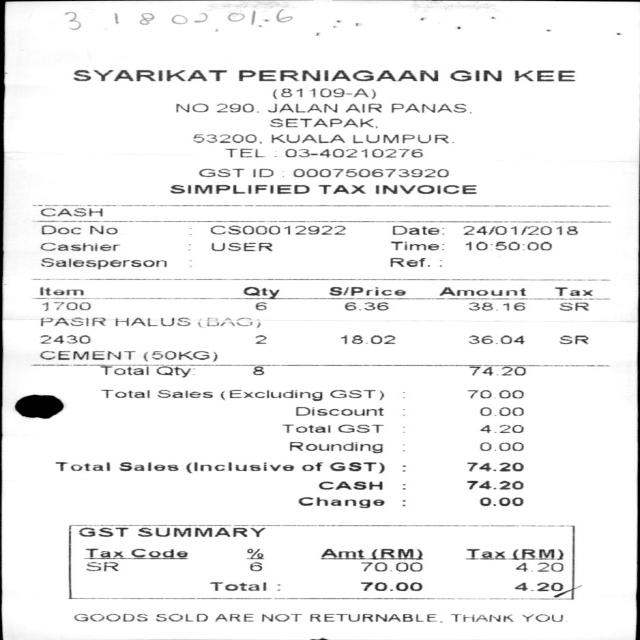text: (238, 70, 438, 81), (73, 70, 227, 81), (40, 257, 166, 269), (291, 168, 447, 177), (170, 184, 309, 194), (308, 613, 441, 623), (185, 461, 294, 473), (136, 527, 264, 537), (284, 148, 422, 157), (219, 389, 322, 401), (210, 225, 343, 234), (272, 88, 376, 99), (463, 225, 577, 235), (288, 442, 381, 454), (269, 118, 376, 128), (374, 184, 475, 194), (298, 497, 383, 508), (352, 134, 452, 143), (436, 286, 525, 296), (465, 241, 550, 251), (40, 350, 120, 360), (295, 406, 383, 415), (391, 103, 470, 113), (138, 351, 216, 361), (329, 286, 405, 296), (40, 242, 120, 251), (74, 612, 146, 622), (114, 317, 190, 326), (193, 134, 261, 144), (328, 461, 384, 473), (513, 70, 574, 81), (316, 480, 382, 490), (270, 134, 343, 143), (38, 207, 102, 217), (266, 103, 336, 112), (197, 317, 260, 327), (116, 461, 176, 471), (40, 317, 105, 326), (448, 70, 500, 81), (130, 548, 187, 558), (208, 581, 265, 591), (449, 613, 512, 622), (467, 334, 523, 344), (469, 365, 525, 375), (359, 562, 421, 571), (328, 390, 383, 400), (372, 548, 422, 559), (211, 242, 272, 251), (55, 461, 109, 471), (78, 526, 127, 537), (465, 462, 522, 471), (465, 480, 522, 489), (392, 225, 443, 235), (39, 334, 90, 344), (156, 612, 207, 622), (466, 389, 522, 398), (511, 548, 561, 558), (359, 582, 421, 590), (155, 389, 210, 398), (389, 241, 443, 250), (340, 335, 394, 344), (316, 184, 364, 194), (42, 301, 90, 311), (515, 562, 563, 572), (155, 366, 194, 378), (37, 286, 82, 296), (280, 424, 330, 433), (467, 302, 523, 310), (513, 582, 562, 591), (479, 406, 523, 416), (479, 441, 523, 451), (319, 548, 363, 558), (243, 286, 279, 298), (100, 366, 148, 375), (100, 389, 148, 398), (388, 257, 429, 267), (198, 168, 243, 177), (465, 548, 504, 558), (479, 423, 522, 432), (479, 497, 522, 506), (336, 424, 384, 432), (215, 103, 257, 112), (555, 286, 592, 296), (261, 613, 301, 622), (41, 225, 80, 234), (344, 302, 387, 310), (215, 613, 253, 622), (225, 148, 262, 157), (85, 548, 122, 557), (521, 614, 562, 622), (344, 103, 380, 112), (176, 102, 208, 112), (86, 561, 117, 571), (559, 301, 588, 311), (89, 225, 117, 234), (560, 335, 588, 344), (301, 461, 322, 471), (252, 168, 273, 177), (246, 548, 263, 559), (255, 334, 266, 344), (250, 561, 261, 571), (251, 366, 263, 375), (255, 301, 266, 310)
